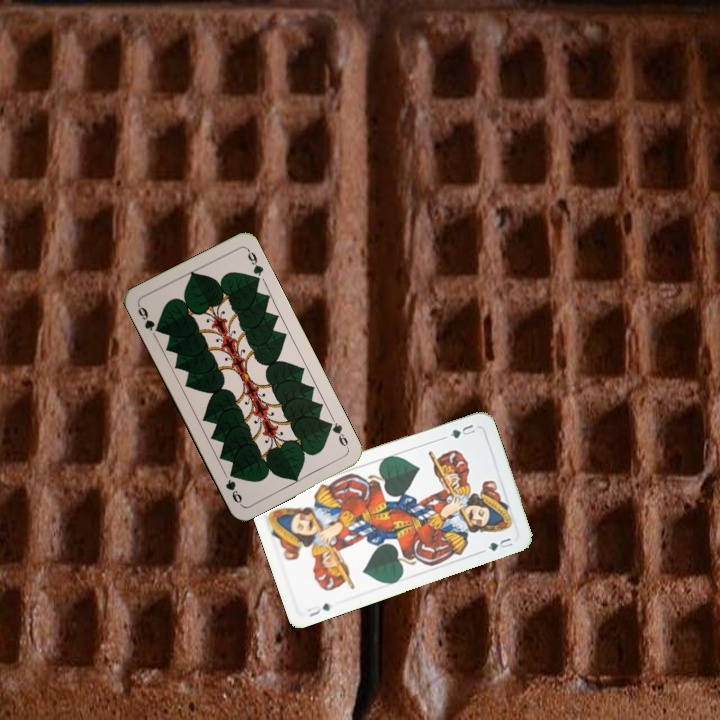G9: (134, 301, 163, 335), (323, 417, 352, 451)
GU: (446, 420, 478, 441), (303, 599, 333, 619)
